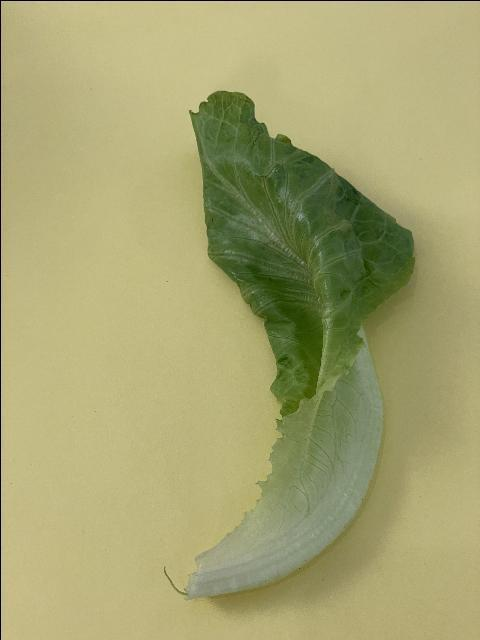lettuce: (188, 88, 416, 600)
